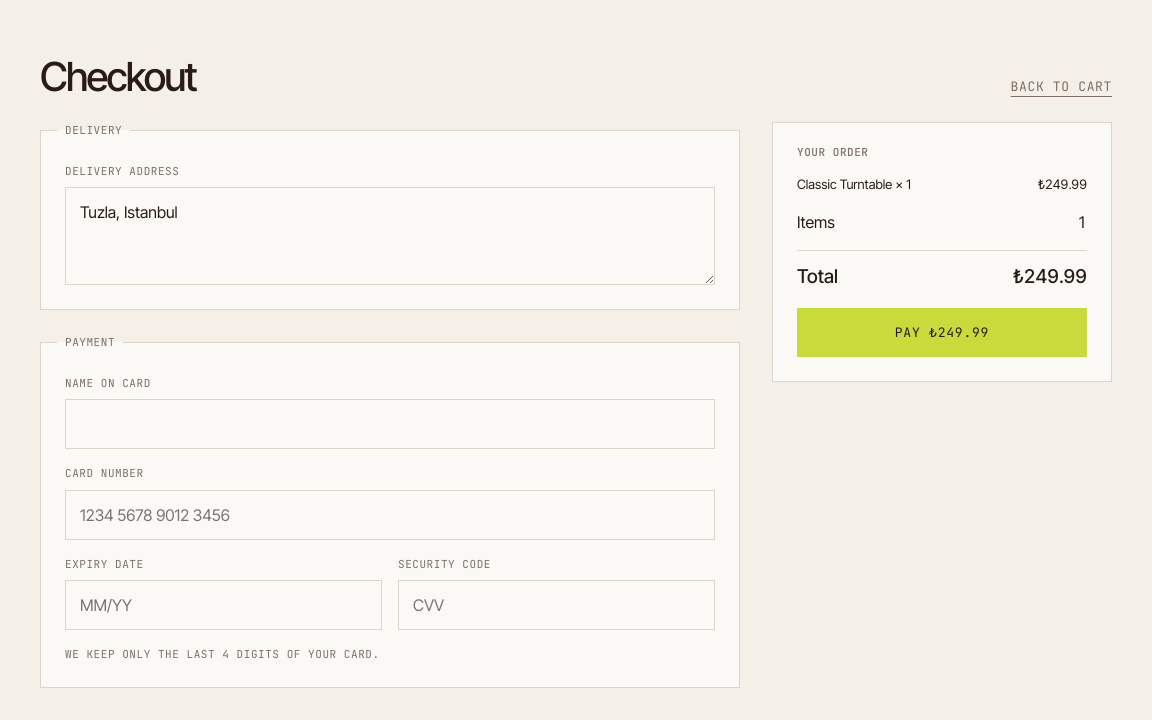
Test: CheckoutPage errors › does not send the order with an expired card
The width and height of the screenshot is (1152, 720).
Check: the text "Classic Turntable × 1" is shown, box [797,174,911,194]
Type "Egemen Eser" into the field labelled "Name on card".
click(390, 424); type("Egemen Eser")  # box [65,399,715,449]
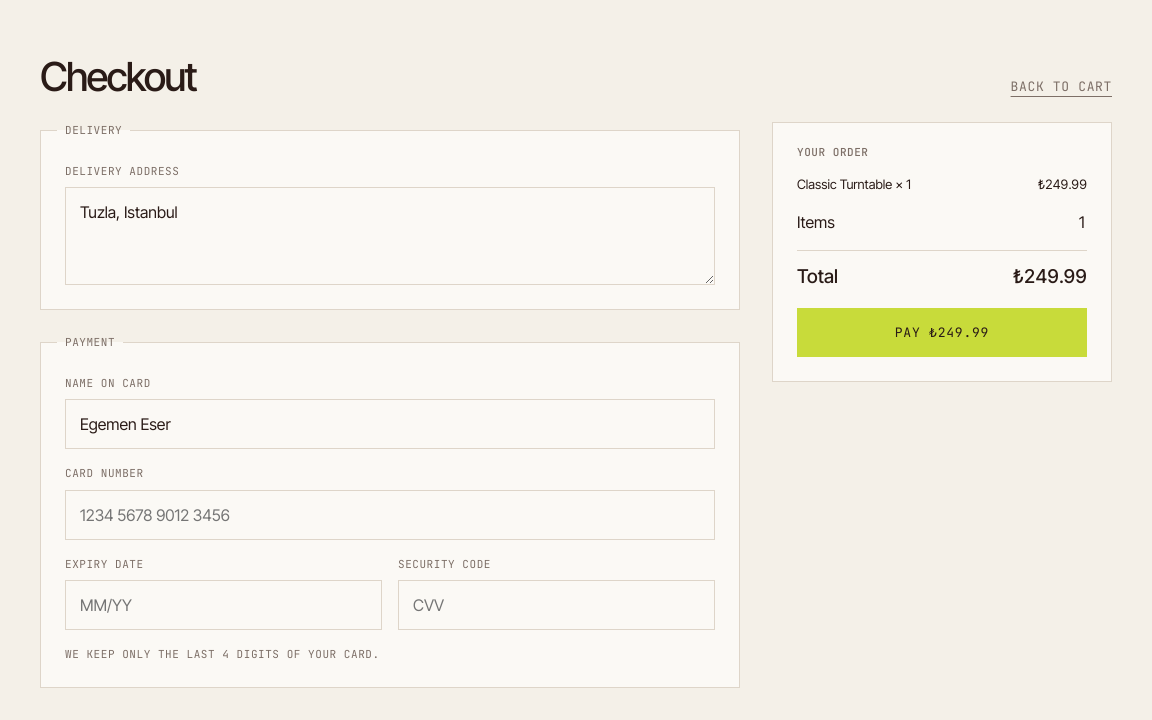
Type "4111111111111111" into the field labelled "Card number".
click(390, 514); type("4111111111111111")  # box [65,490,715,540]
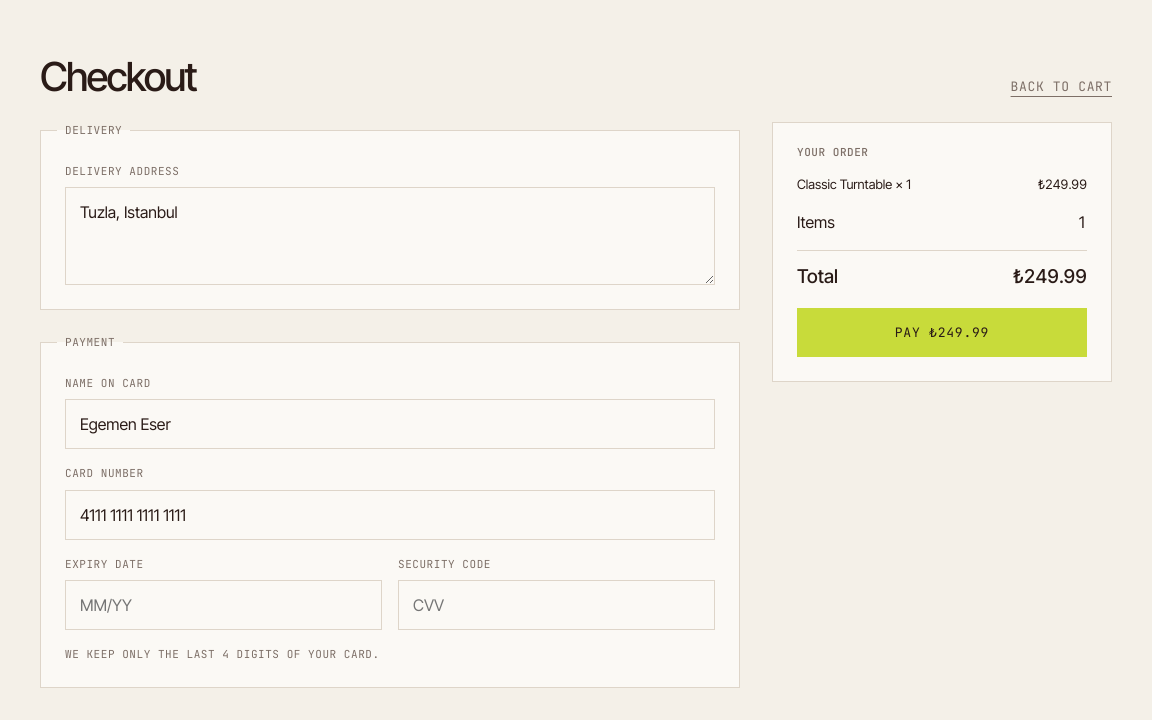
Type "0120" into the field labelled "Expiry date".
click(224, 605); type("0120")  # box [65,580,382,630]
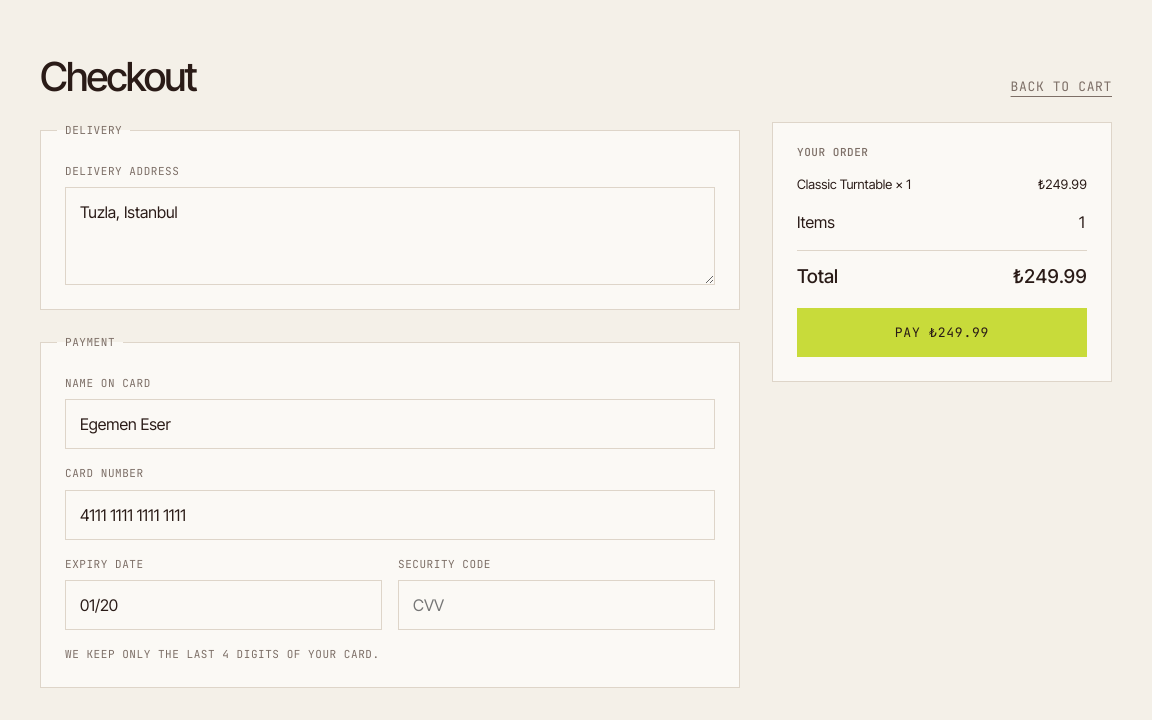
Type "123" into the field labelled "Security code".
click(556, 605); type("123")  # box [398,580,715,630]
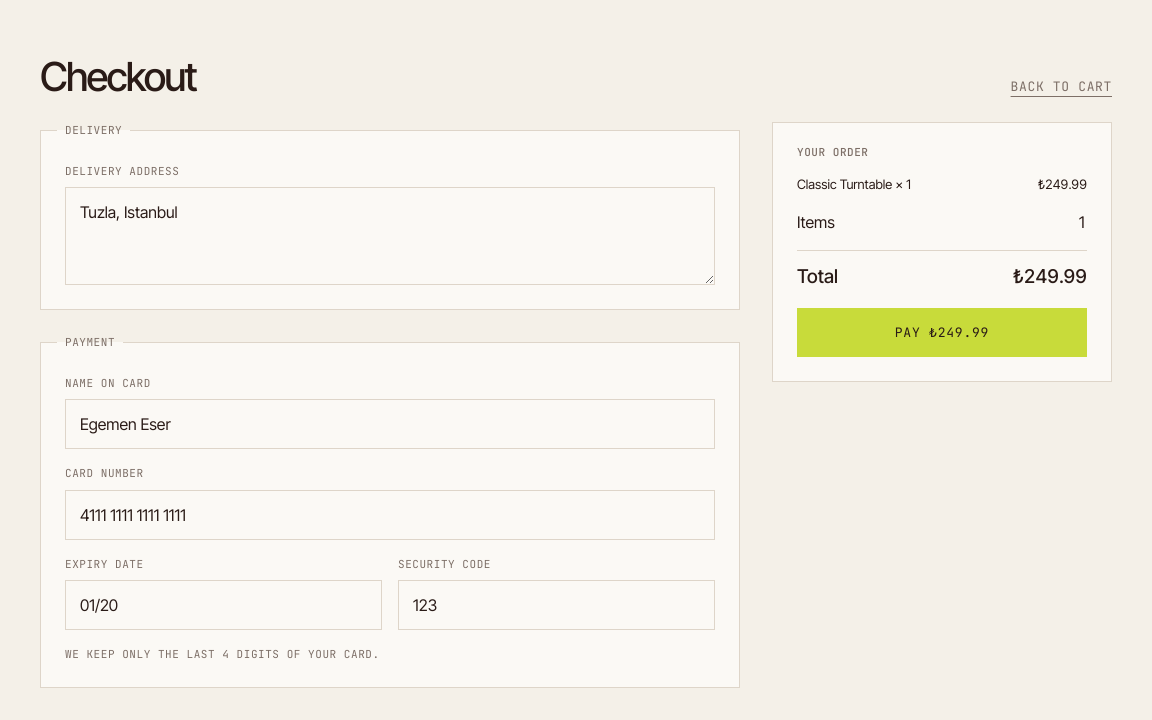
Click the button "Pay ₺249.99".
click(942, 332)  # box [797,308,1087,357]
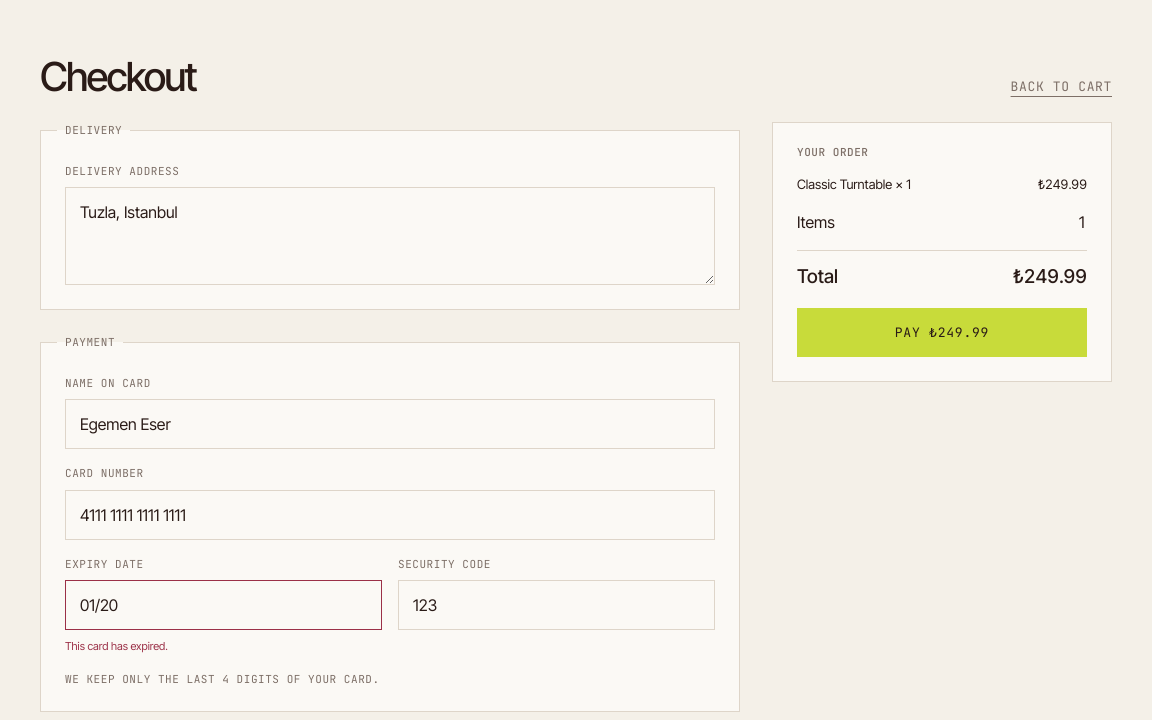
Check: the text "This card has expired." is shown, box [65,639,168,653]
